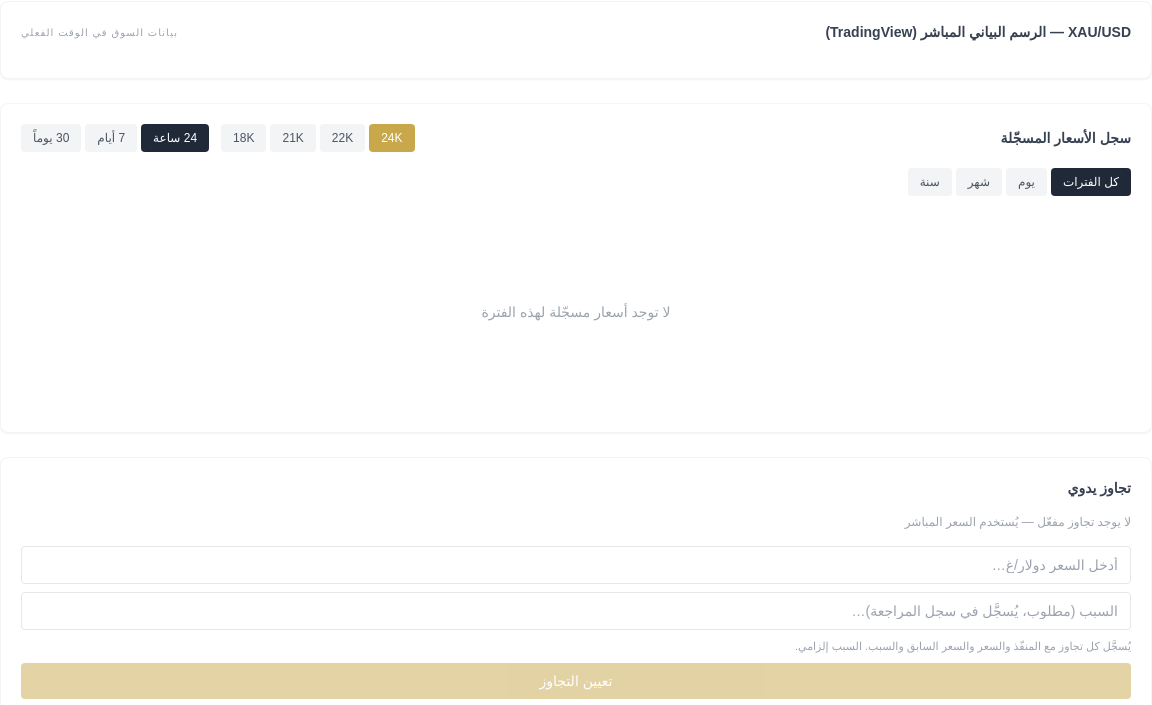
Test: gold price — the override still does what it did › a refusal from the server is shown as the server worded it
(page scrolled)
Type "150.5" into the number field named "سعر التجاوز (دولار/غ)" at point(576, 565), box 21,546 -> 1131,584
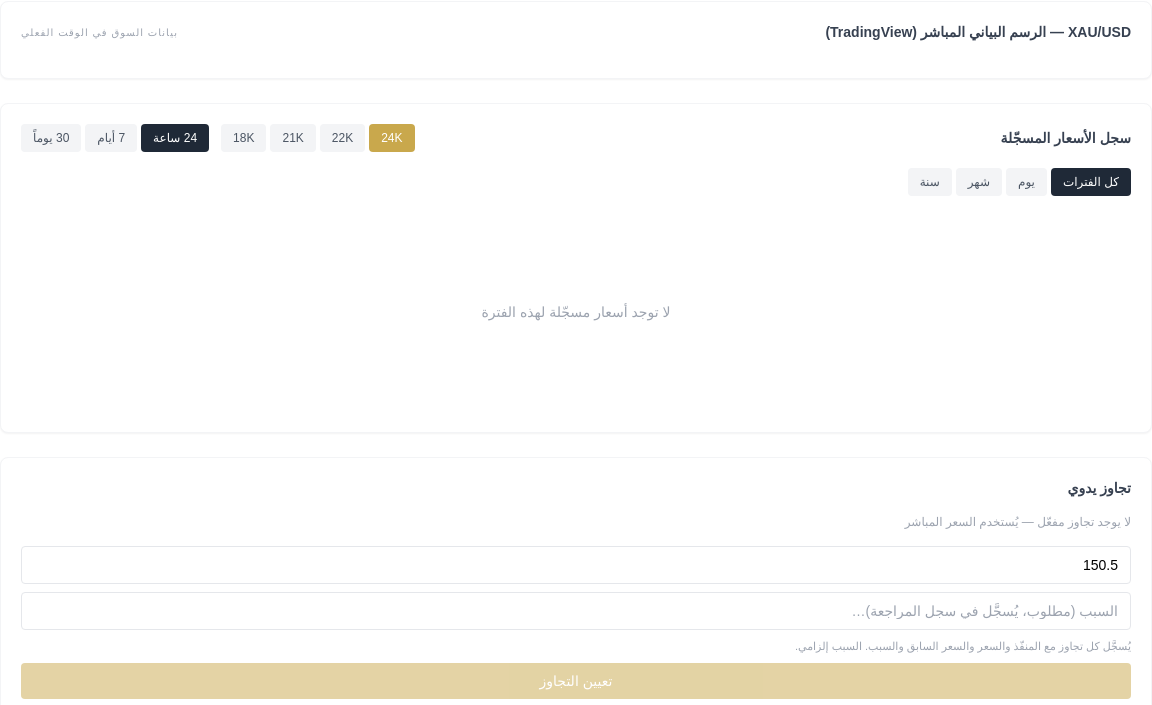
Type "feed is down" into the field named "سبب التجاوز" at point(576, 611), box 21,592 -> 1131,630
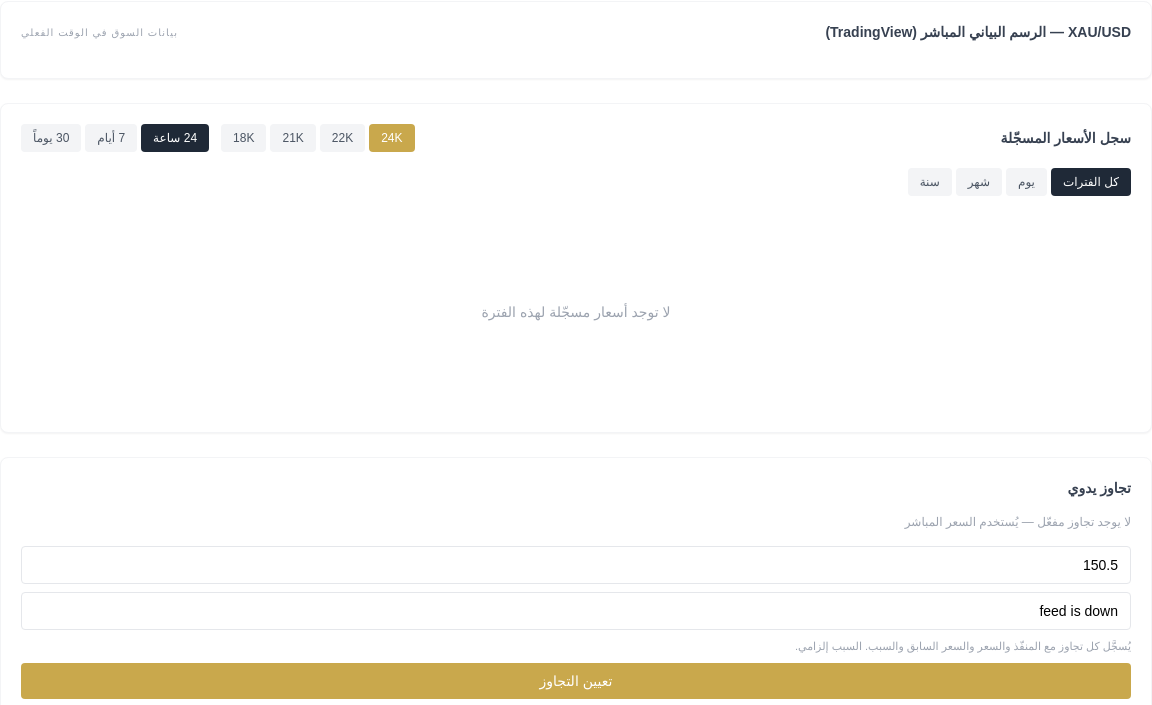
Click the button "تعيين التجاوز" at point(576, 680), box 21,662 -> 1131,698
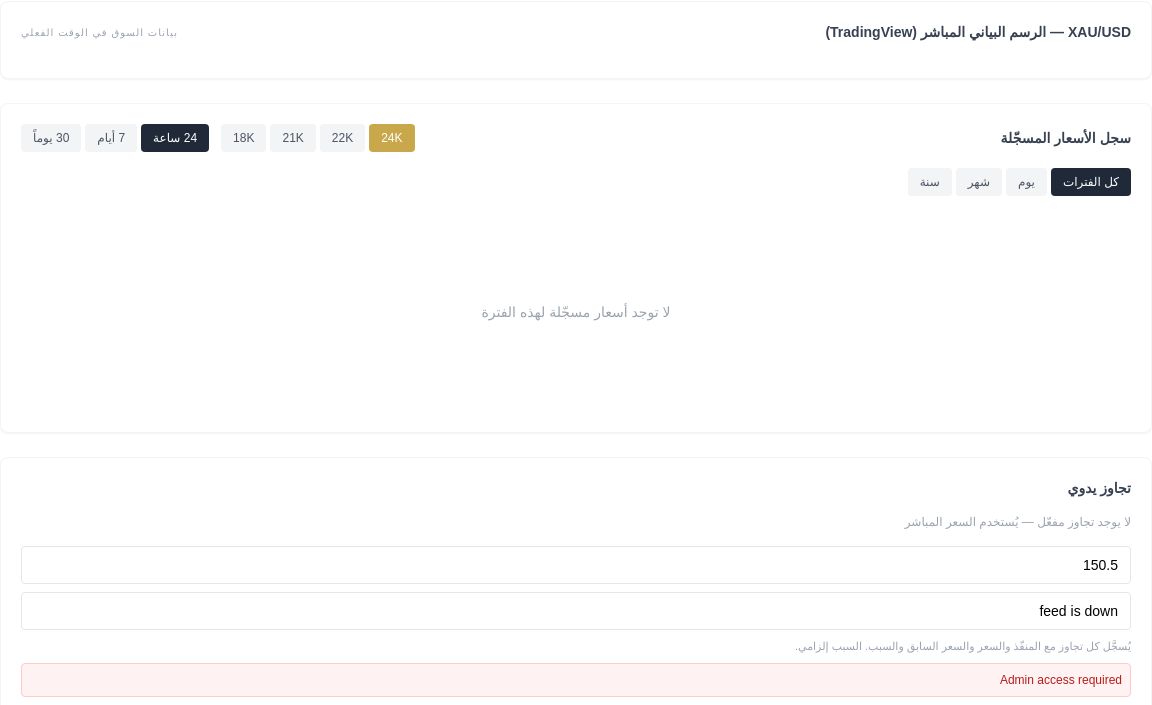
Expected: the text "Admin access required" is shown, 21,662 -> 1131,696
